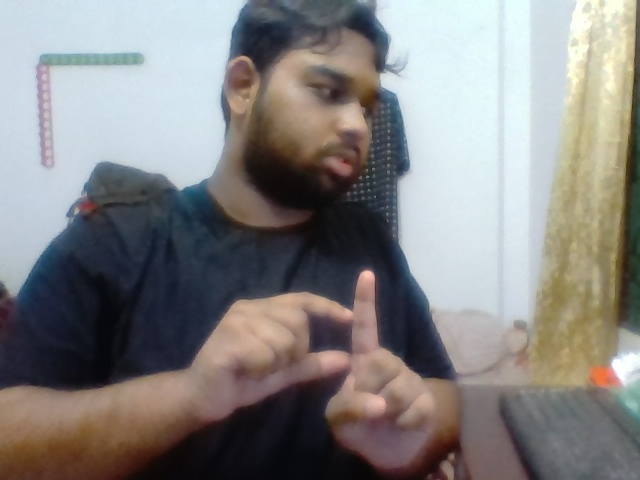D: (194, 243, 443, 460)
